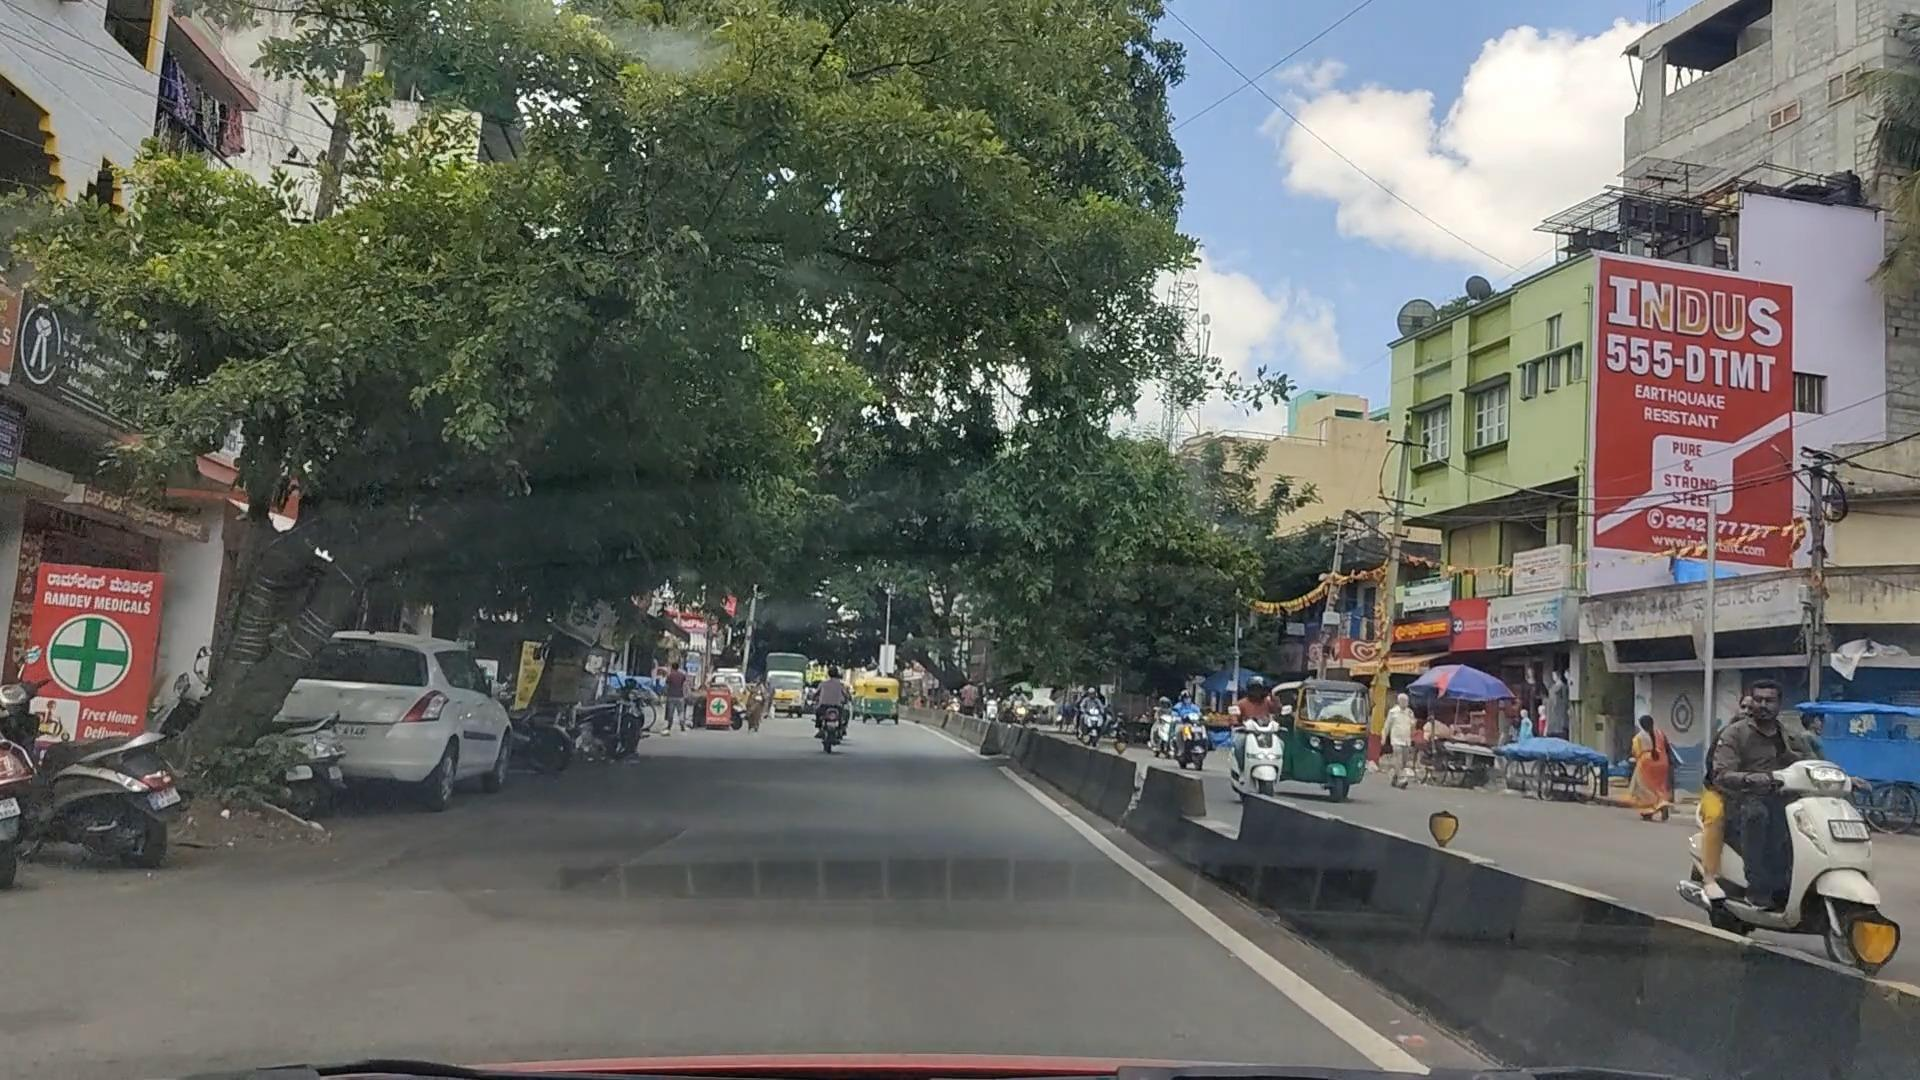RoadDamages: (335, 803, 707, 948)
